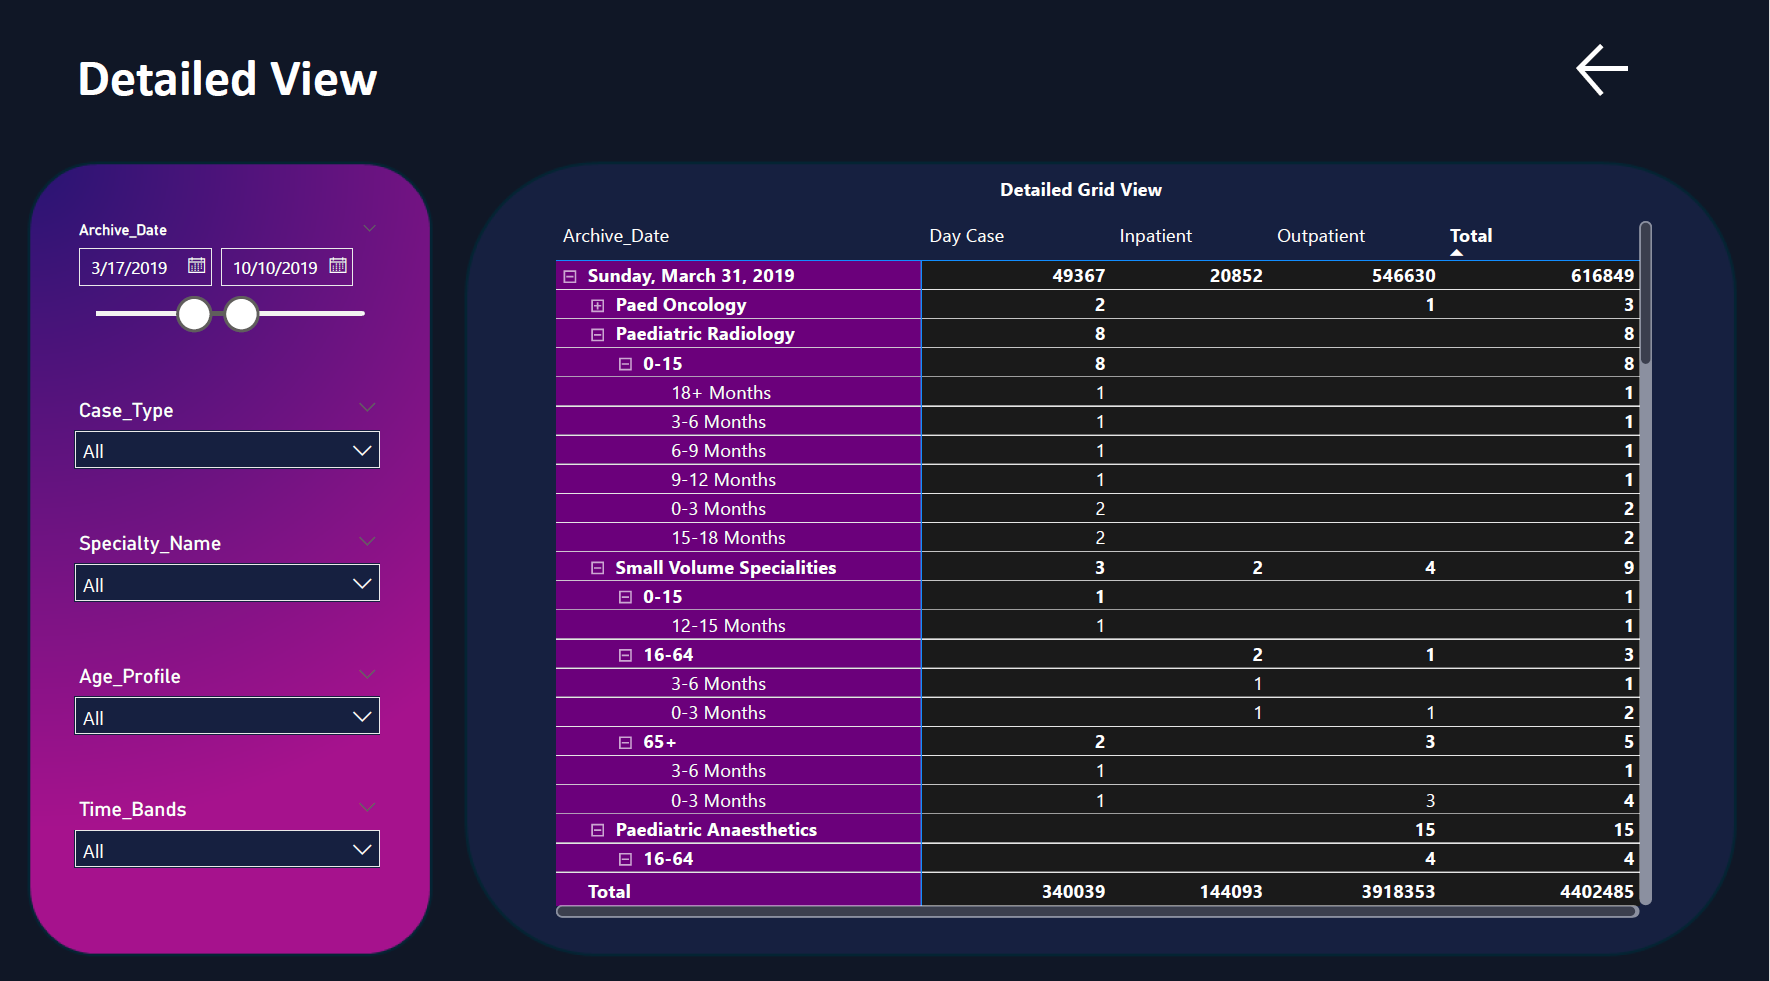

Layout of this report page (visuals, bound fields, positions):
{"tool":"powerbi","page":{"name":"Detailed View","canvas":[1280,720],"ordinal":1},"visuals":[{"type":"slicer","fields":{"Values":["All_Data.Archive_Date"]},"box":[48,160,240,96],"z":0},{"type":"slicer","fields":{"Values":["All_Data.Case_Type"]},"box":[48,288,240,64],"z":1000},{"type":"slicer","fields":{"Values":["All_Data.Specialty_Name"]},"box":[48,384,240,64],"z":2000},{"type":"slicer","fields":{"Values":["All_Data.Time_Bands"]},"box":[48,576,240,64],"z":3000},{"type":"slicer","fields":{"Values":["All_Data.Age_Profile"]},"box":[48,480,240,64],"z":4000},{"type":"pivotTable","fields":{"Rows":["All_Data.Archive_Date","All_Data.Specialty_Name","All_Data.Age_Profile","All_Data.Time_Bands"],"Columns":["All_Data.Case_Type"],"Values":["Sum(All_Data.Total)"]},"box":[400,160,800,512],"z":5000},{"type":"textbox","box":[48,16,240,80],"z":6000},{"type":"textbox","box":[720,128,144,32],"z":6001},{"type":"actionButton","box":[1136,32,96,48],"z":6002}]}

Visuals, with their boxes in screenshot pixels (x1, y1, x2, y2), scaled from the page's 1280x720 canvas onto the 1770x981 screenshot:
slicer - All_Data.Archive_Date: l=66, t=218, r=398, b=349
slicer - All_Data.Case_Type: l=66, t=392, r=398, b=480
slicer - All_Data.Specialty_Name: l=66, t=523, r=398, b=610
slicer - All_Data.Time_Bands: l=66, t=785, r=398, b=872
slicer - All_Data.Age_Profile: l=66, t=654, r=398, b=741
pivotTable - All_Data.Archive_Date x All_Data.Specialty_Name: l=553, t=218, r=1659, b=916
textbox: l=66, t=22, r=398, b=131
textbox: l=996, t=174, r=1195, b=218
actionButton: l=1571, t=44, r=1704, b=109
